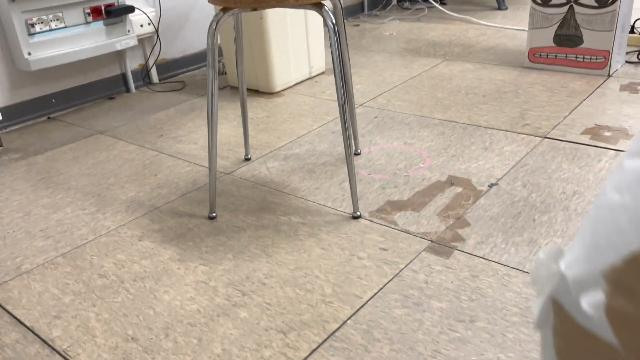Stool: (196, 0, 370, 232)
